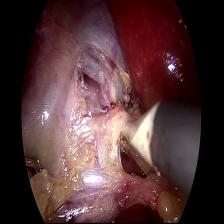Hook: (116, 99, 162, 173)
